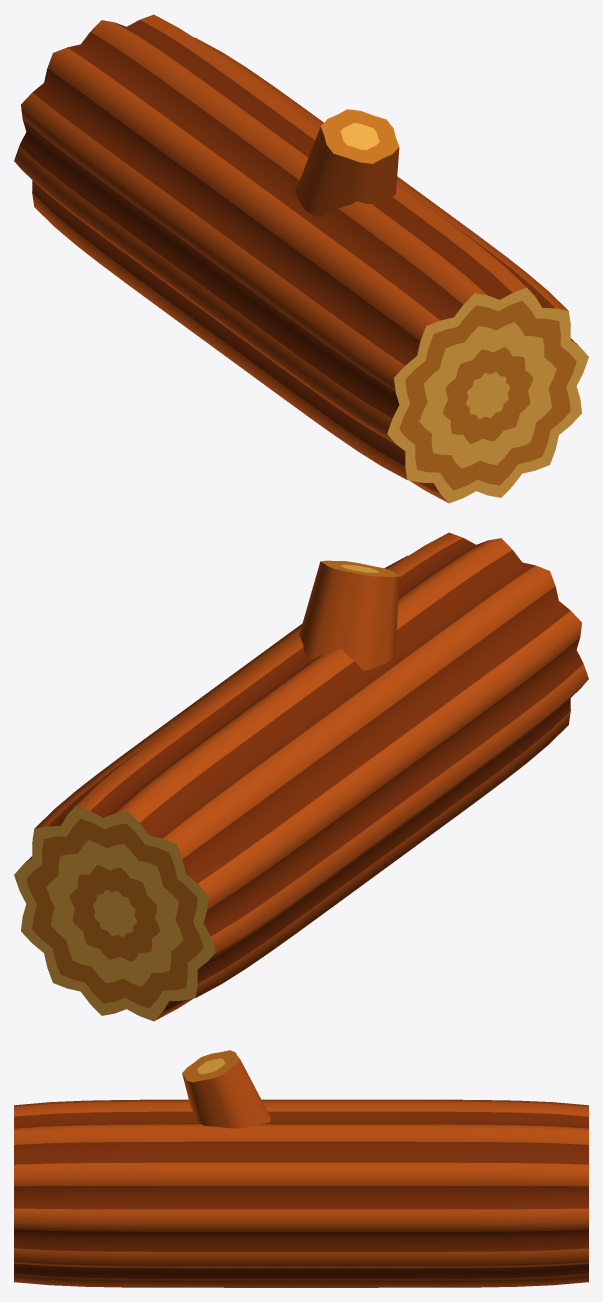
The model's file is timber-log.glb.
3 views of the same model, one above another, from view 1: azimuth 30°, elevation 25°; view 2: azimuth 150°, elevation 25°; view 3: azimuth 270°, elevation 25° (orthographic). The views are drawn at different scales.
Parts seen in each view (by area): view 1: TimberLog; view 2: TimberLog; view 3: TimberLog.
Part boxes in pixels (left/top/right/bottom): TimberLog: left=14, top=14, right=588, bottom=503; TimberLog: left=14, top=532, right=588, bottom=1021; TimberLog: left=14, top=1050, right=588, bottom=1287.
Bounding box in the file's own units: 0.1795 × 0.2313 × 0.54.
